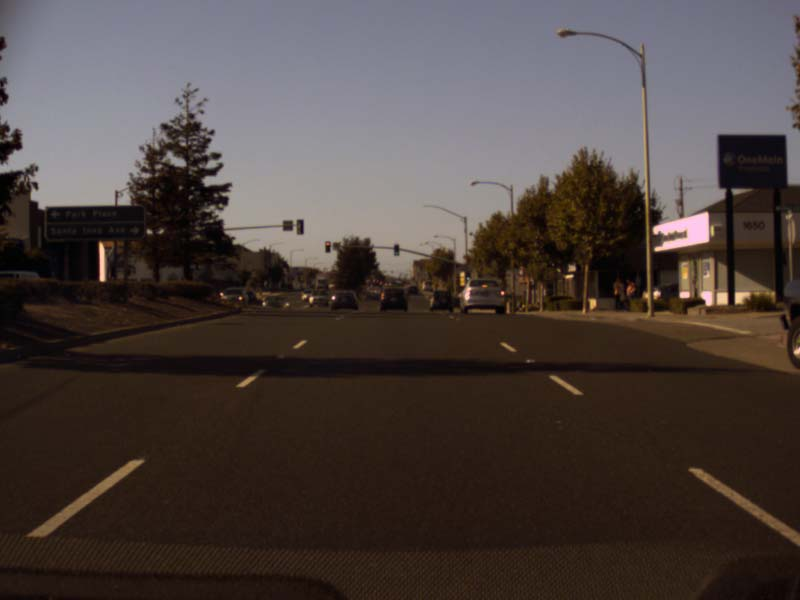Green: (394, 243, 399, 255), (465, 272, 471, 281)
Red: (325, 241, 330, 252)
